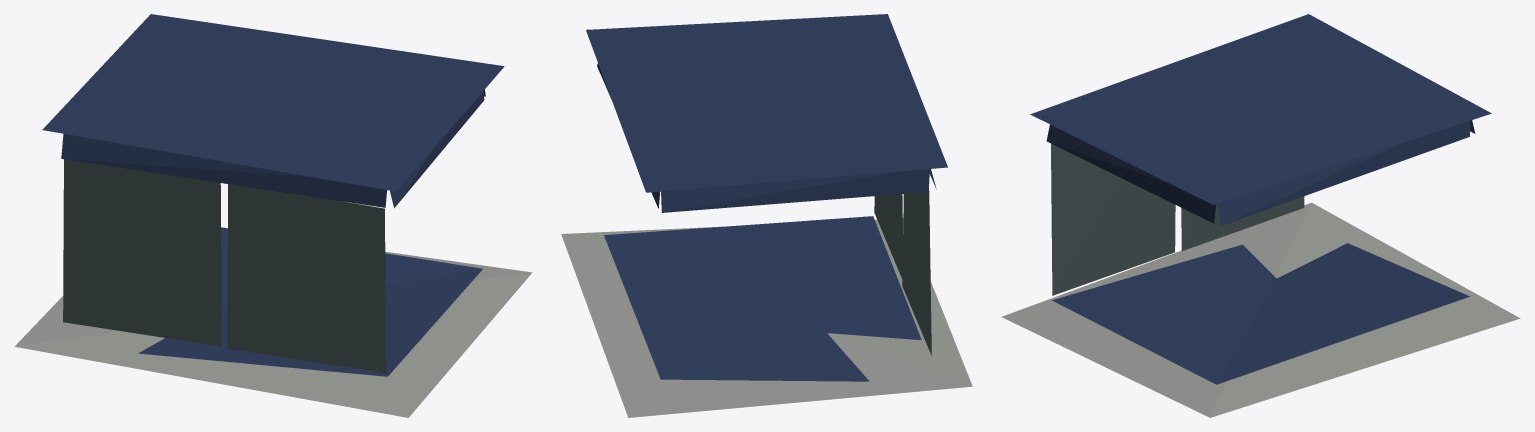
File: kiosk-frens-haringhandel.lod2.glb
The picture shows the model from 3 angles, left to right: view 1: azimuth 30°, elevation 25°; view 2: azimuth 150°, elevation 25°; view 3: azimuth 270°, elevation 25°; orthographic projection. The views are drawn at different scales.
Visible parts, largest first — view 1: lod2; view 2: lod2; view 3: lod2.
Boxes of the visible parts, left/top/right/bottom form: lod2: left=14, top=14, right=532, bottom=417; lod2: left=561, top=14, right=972, bottom=417; lod2: left=1001, top=14, right=1520, bottom=417.
Bounding box in the file's own units: 6.23 × 2.81 × 6.36.
